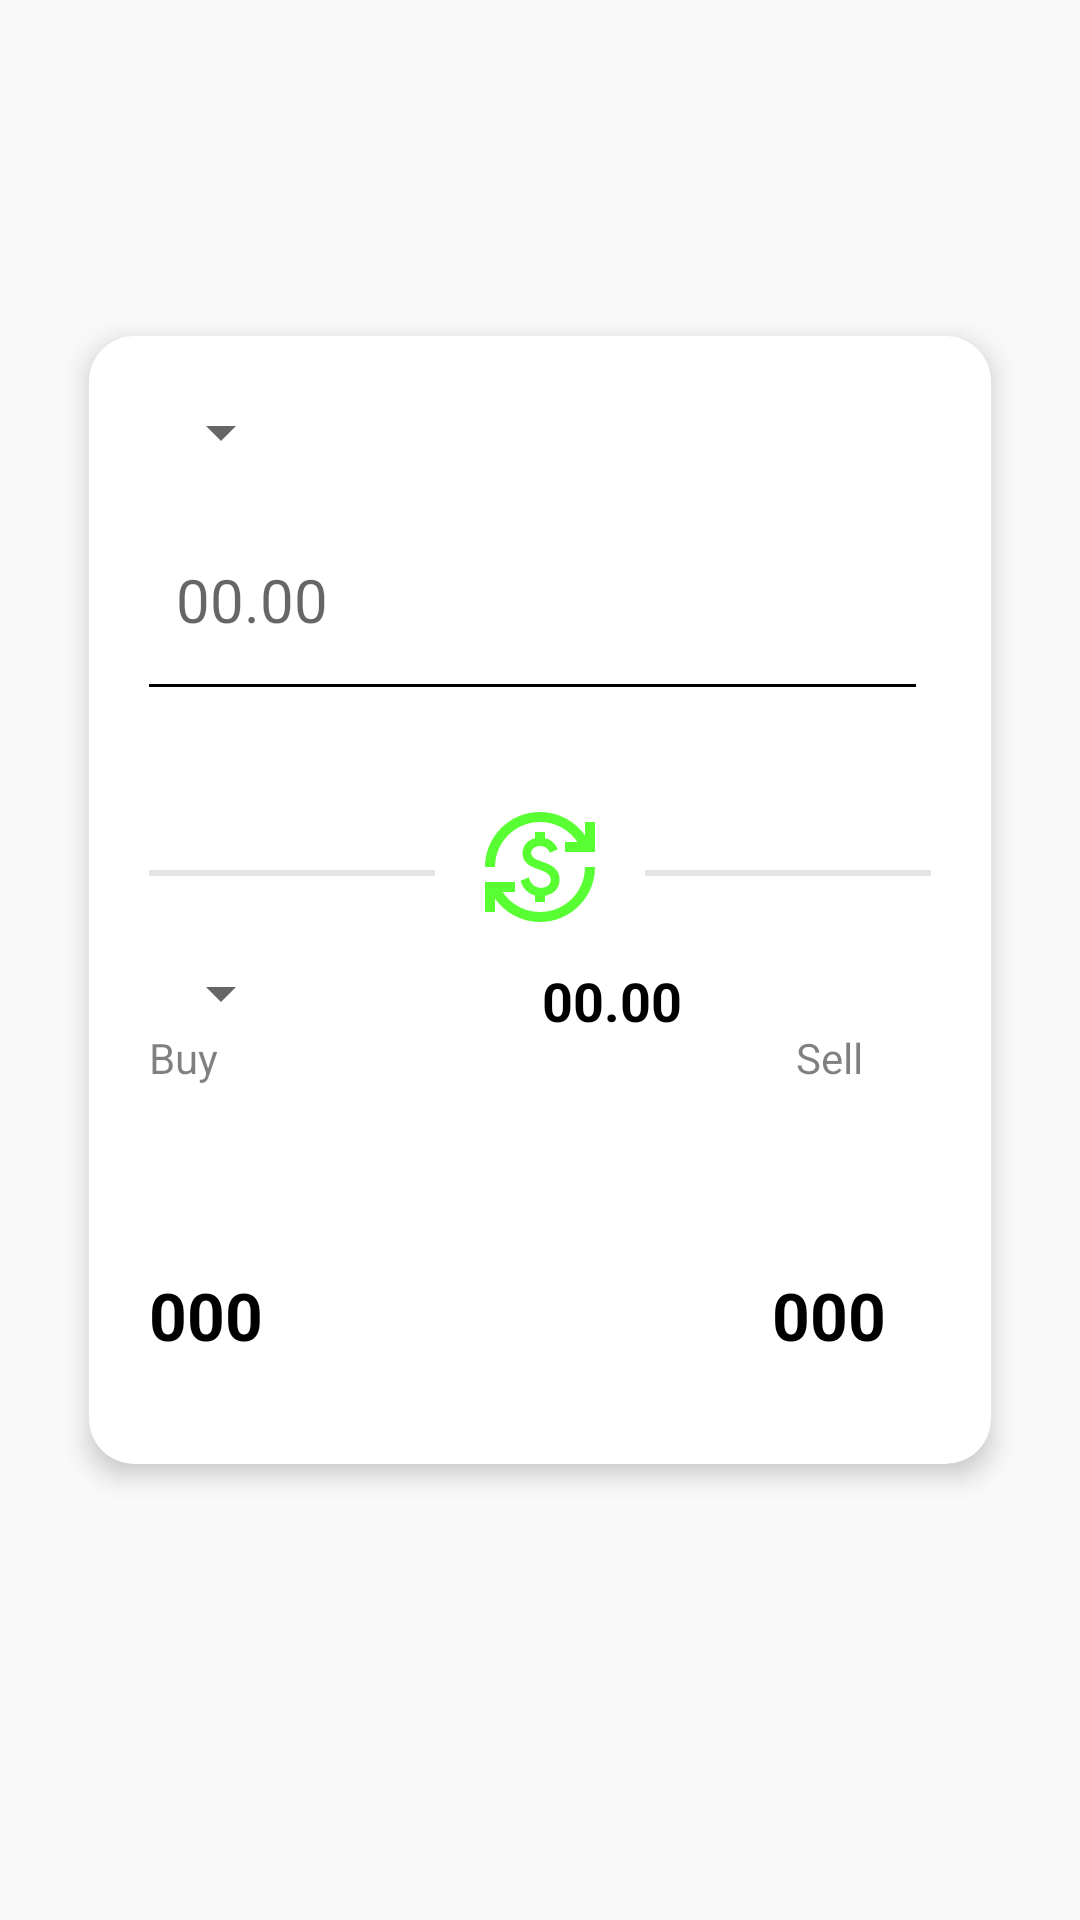

Point at icon controls on the screen. Image size 1080×1920, points as [x,y].
currency exchange: [540,867]
